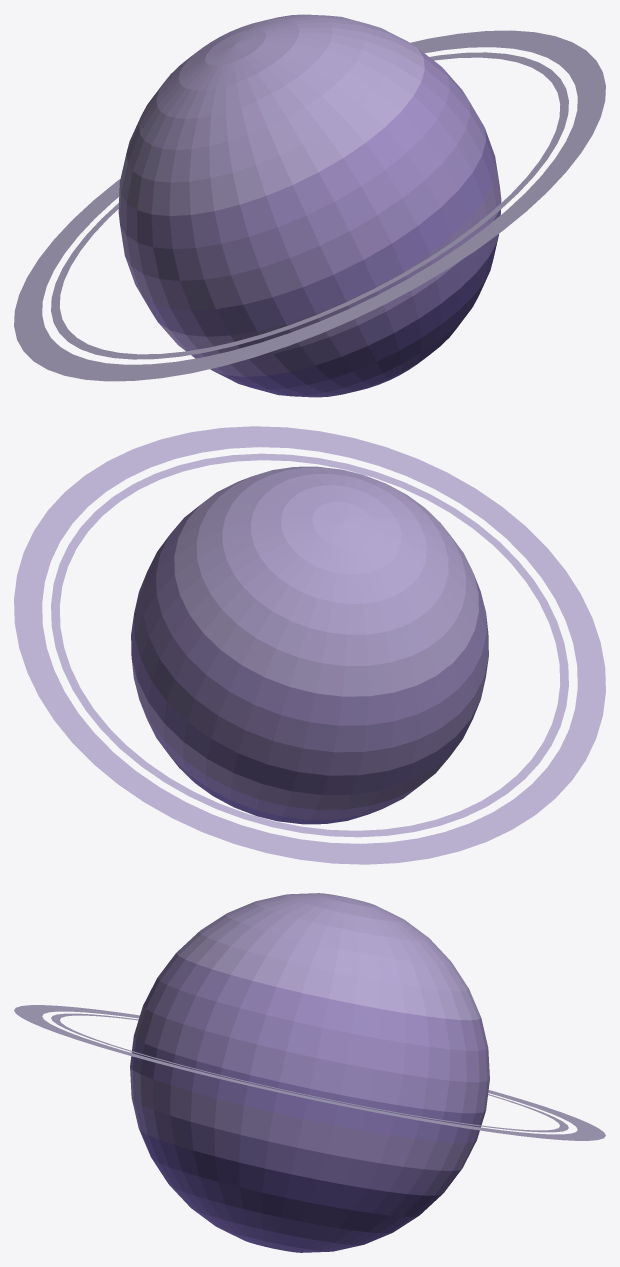
File: planet.glb
The picture shows the model from 3 angles, top to bottom: view 1: azimuth 30°, elevation 25°; view 2: azimuth 150°, elevation 25°; view 3: azimuth 270°, elevation 25°; orthographic projection. The views are drawn at different scales.
Visible parts, largest first — view 1: Body, Rings; view 2: Body, Rings; view 3: Body, Rings.
Boxes of the visible parts, x1,y1,x2,y2 form: Body: [118, 14, 501, 397]; Rings: [14, 30, 605, 381]; Body: [131, 466, 488, 824]; Rings: [14, 426, 605, 864]; Body: [130, 893, 489, 1252]; Rings: [14, 1005, 605, 1140].
Bounding box in the file's own units: 285 × 180 × 296.
